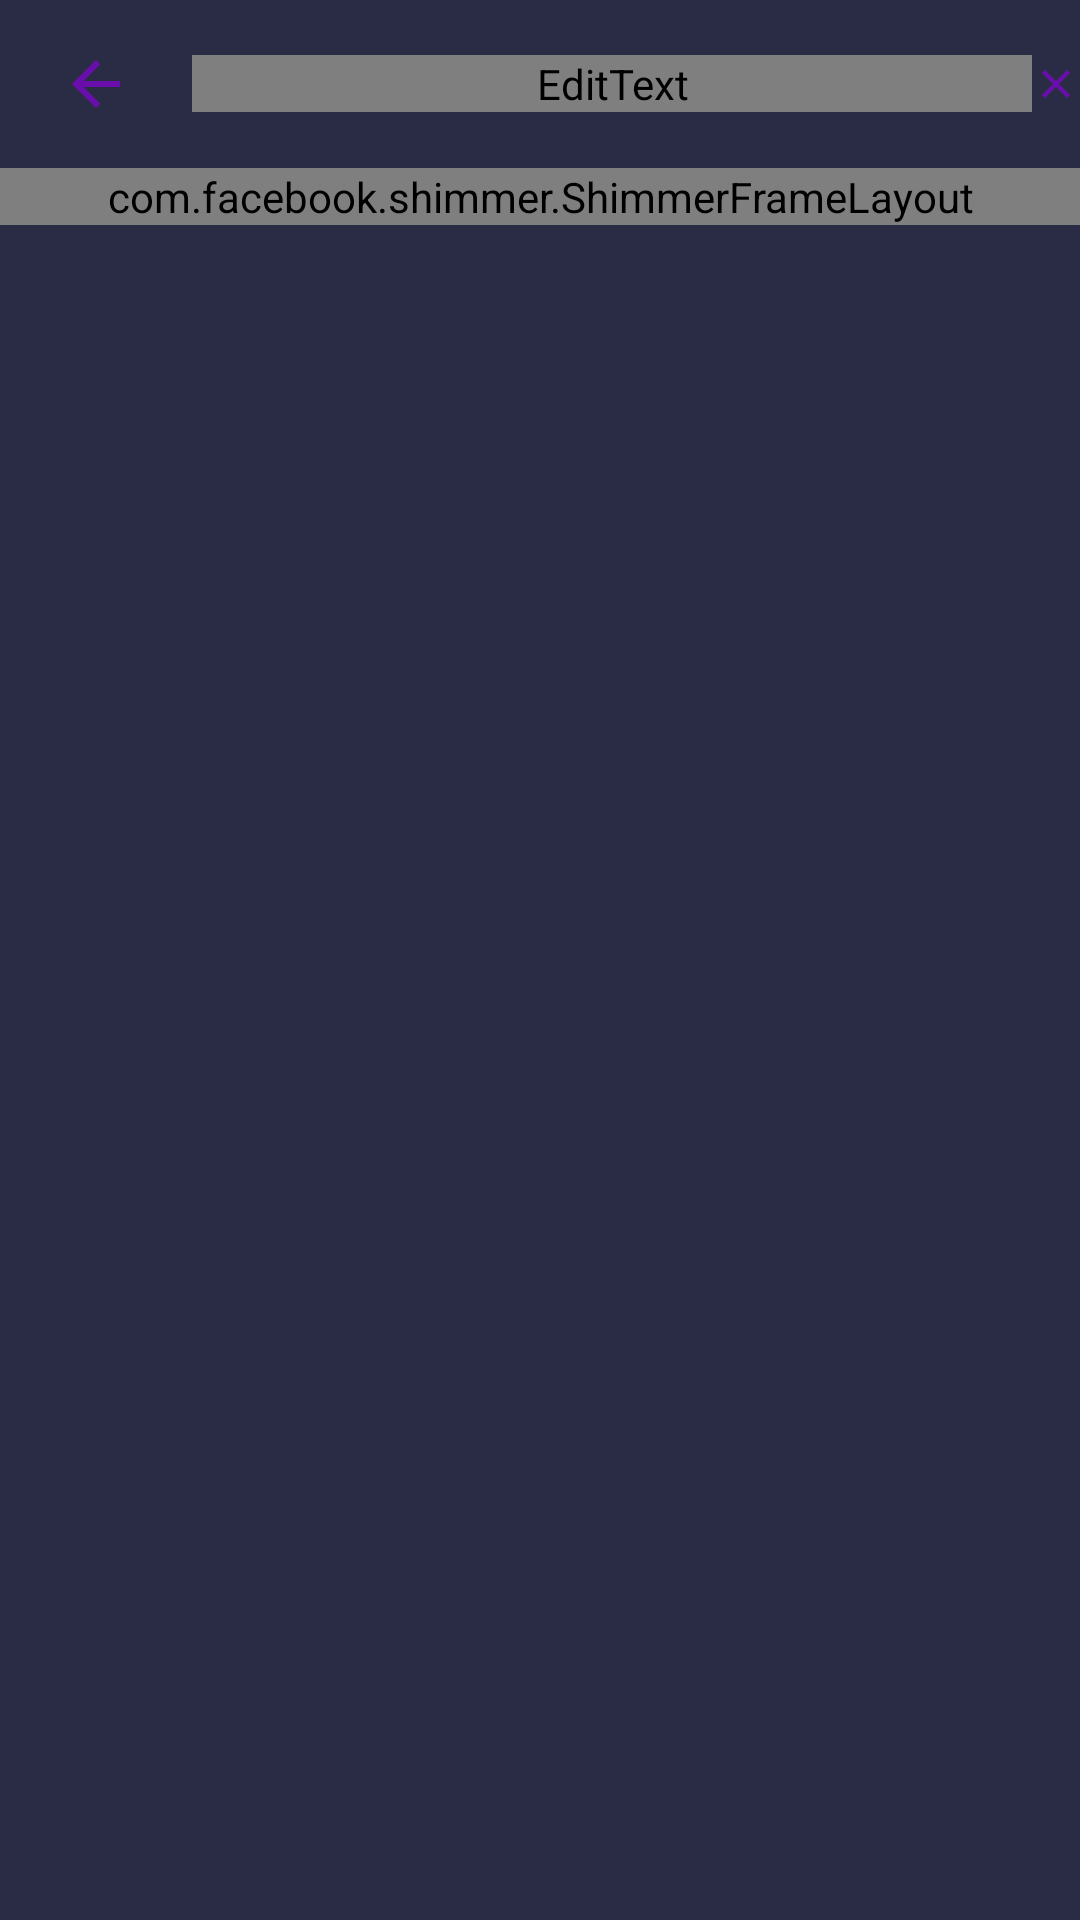

Named icons in this screenshot (1080px×1920px) and their centers, (x,y):
arrow back: (96,84)
clear: (1056,84)
